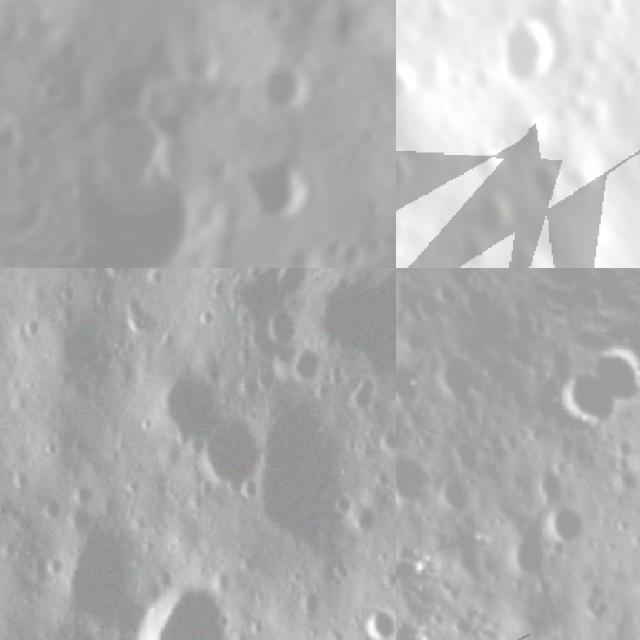crater: (48, 136, 219, 268), (41, 499, 150, 637), (114, 561, 255, 640), (80, 99, 182, 200), (136, 352, 231, 459), (228, 146, 323, 240), (240, 42, 334, 136), (186, 410, 276, 507), (231, 0, 380, 49), (546, 363, 628, 448), (496, 8, 570, 92), (498, 520, 572, 594), (32, 60, 101, 132), (421, 345, 489, 414), (534, 494, 602, 562), (396, 444, 448, 523), (424, 466, 487, 530), (0, 139, 58, 199), (250, 296, 308, 353), (396, 352, 440, 426), (528, 460, 582, 514), (280, 336, 332, 390), (522, 158, 570, 210), (473, 192, 519, 246), (348, 589, 396, 640), (503, 112, 551, 156), (0, 111, 37, 163), (457, 623, 530, 640), (396, 58, 420, 104), (396, 142, 417, 194), (594, 0, 630, 25), (629, 140, 640, 185), (396, 286, 407, 329)
